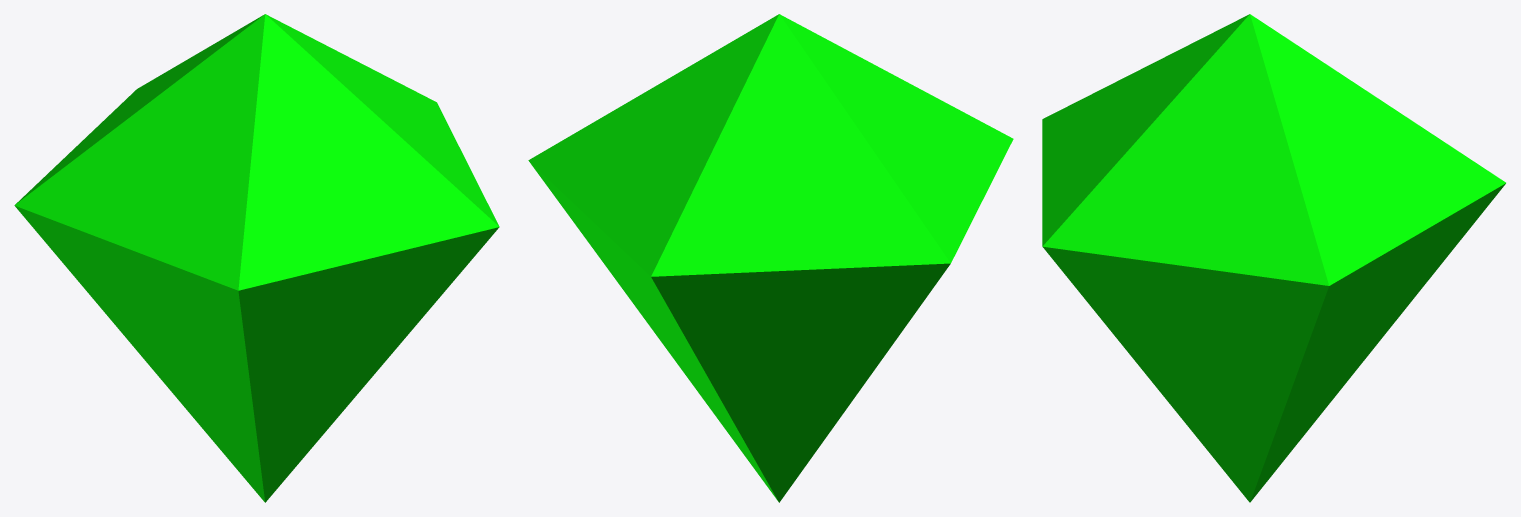
3 views of the same model, side by side, from view 1: azimuth 30°, elevation 25°; view 2: azimuth 150°, elevation 25°; view 3: azimuth 270°, elevation 25° (orthographic).
Parts seen in each view (by area): view 1: Sphere002; view 2: Sphere002; view 3: Sphere002.
Part boxes in pixels (x1,y1,x2,y2): Sphere002: [14, 14, 499, 502]; Sphere002: [528, 14, 1013, 502]; Sphere002: [1042, 14, 1505, 502].
Bounding box in the file's own units: 18.09 × 17.2 × 20.
